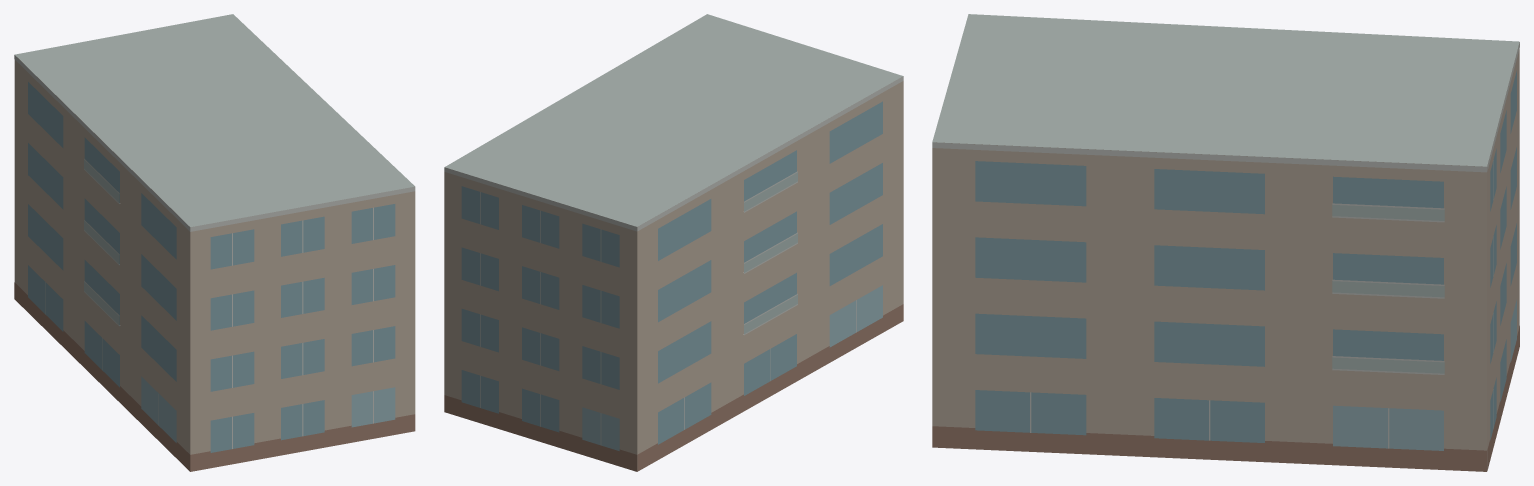
File: survey-upis-32903678.glb
The picture shows the model from 3 angles, left to right: view 1: azimuth 30°, elevation 25°; view 2: azimuth 150°, elevation 25°; view 3: azimuth 270°, elevation 25°; orthographic projection. The views are drawn at different scales.
Parts seen in each view (by area): view 1: survey-upis-32903678.tmp; view 2: survey-upis-32903678.tmp; view 3: survey-upis-32903678.tmp.
Part boxes in pixels (box(x1,y1,x2,y2)): survey-upis-32903678.tmp: box(14, 14, 415, 471); survey-upis-32903678.tmp: box(444, 14, 903, 471); survey-upis-32903678.tmp: box(932, 14, 1519, 471).
Bounding box in the file's own units: 13.85 × 12.9 × 22.52.
